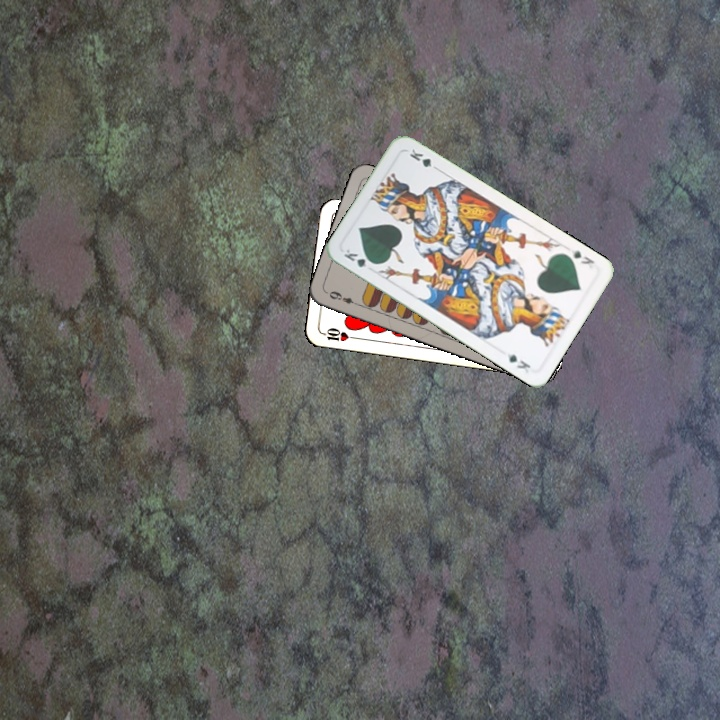E9: (325, 287, 362, 309)
GK: (340, 245, 378, 271), (566, 245, 597, 267)
H10: (318, 324, 358, 344)
